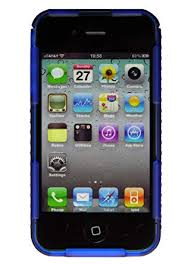iphone: (26, 6, 165, 258)
iphone4: (24, 5, 163, 257)
